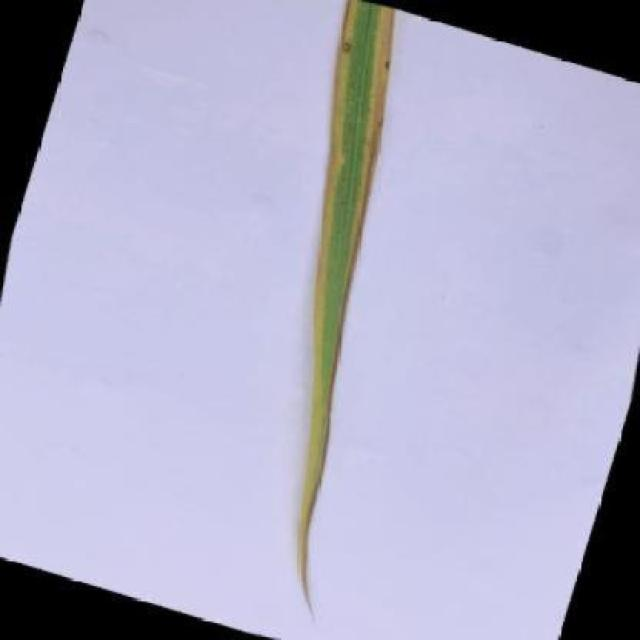Rice False Smut: (168, 0, 490, 623)
